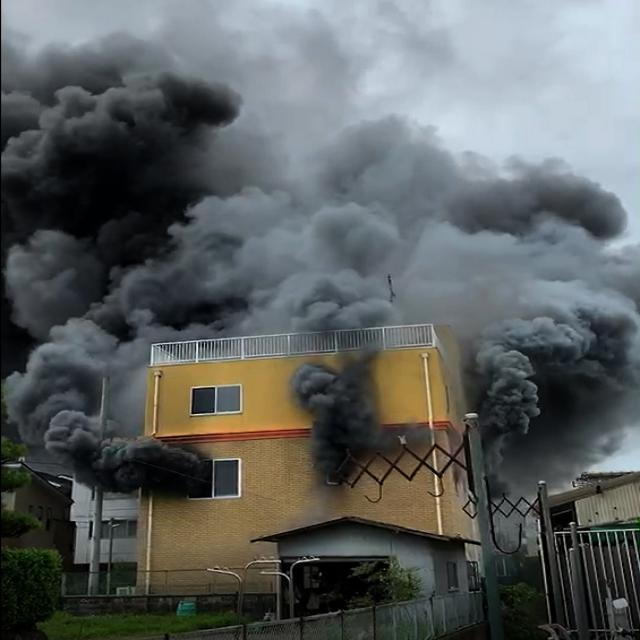Smoke: (1, 22, 638, 326), (478, 322, 640, 460), (8, 329, 144, 462), (294, 352, 378, 480)
